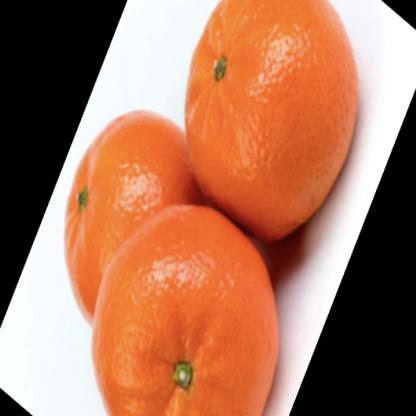fresh: (59, 1, 358, 416)
